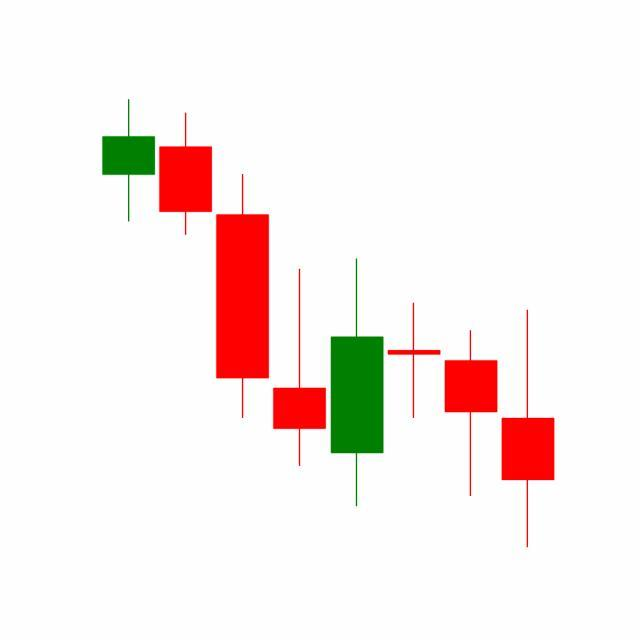Hikkake Pattern: (214, 170, 501, 511)
